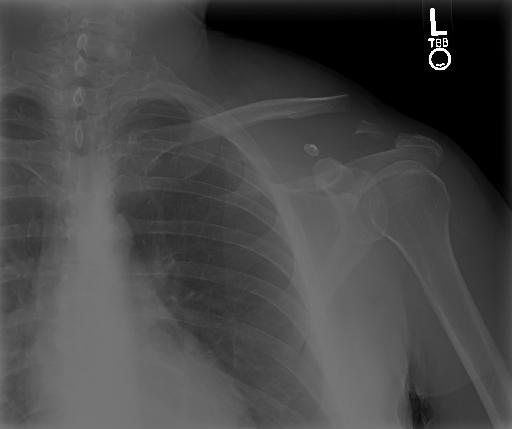shoulder fracture: (340, 108, 440, 162)
